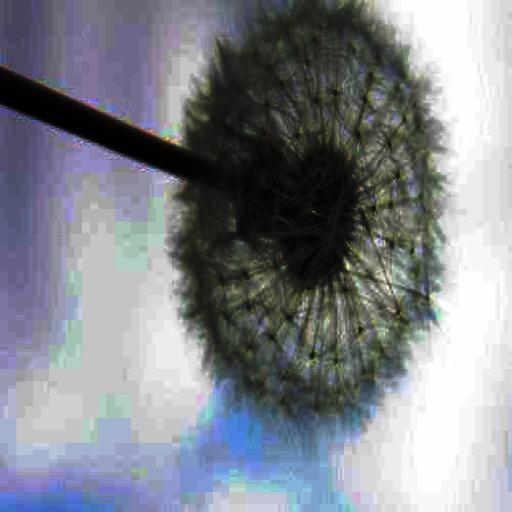dandelion: (188, 12, 442, 417)
